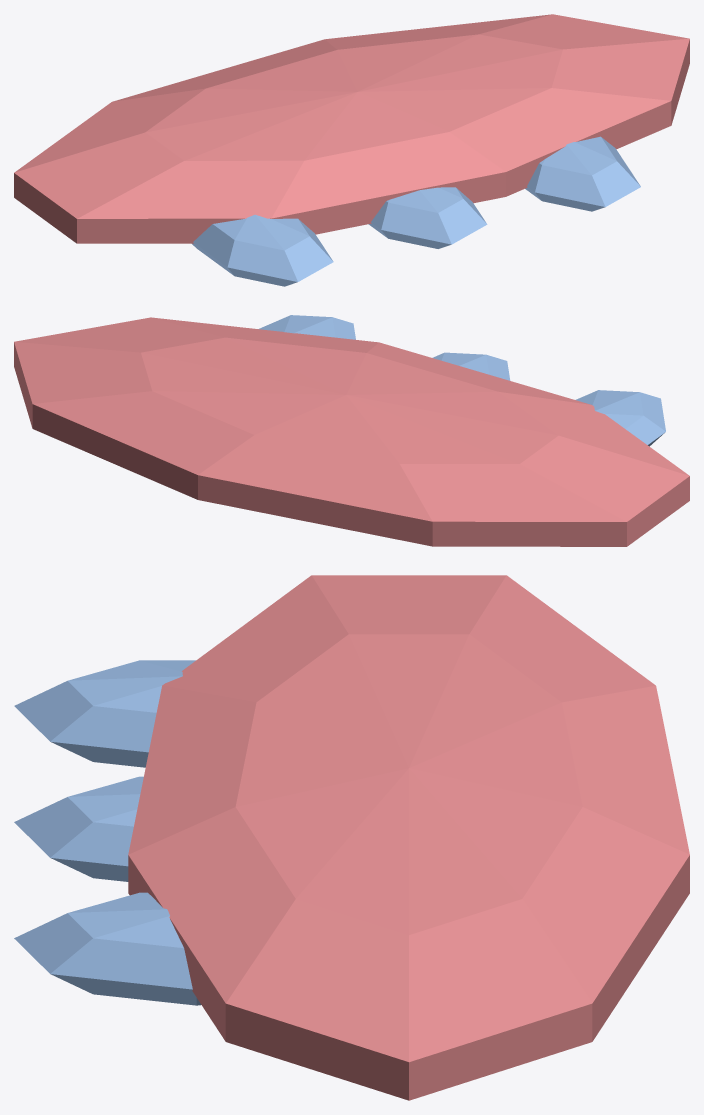
Rendered from loro_ala_roja.glb.
The picture shows the model from 3 angles, top to bottom: view 1: azimuth 30°, elevation 25°; view 2: azimuth 150°, elevation 25°; view 3: azimuth 270°, elevation 25°; orthographic projection. The views are drawn at different scales.
Visible parts, largest first — view 1: loro_ala_roja; view 2: loro_ala_roja; view 3: loro_ala_roja.
Part boxes in pixels (x1=…): loro_ala_roja: x1=14, y1=14, x2=689, y2=286; loro_ala_roja: x1=14, y1=315, x2=689, y2=546; loro_ala_roja: x1=14, y1=575, x2=689, y2=1100.
Size of the model in its own units: 0.9224 by 0.11 by 0.541.
